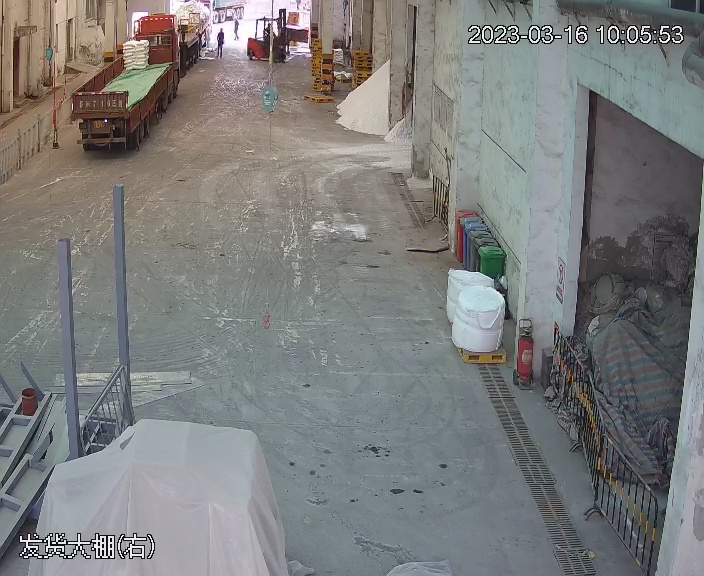people: (216, 25, 225, 59), (232, 15, 240, 41)
truck: (67, 3, 197, 156)
